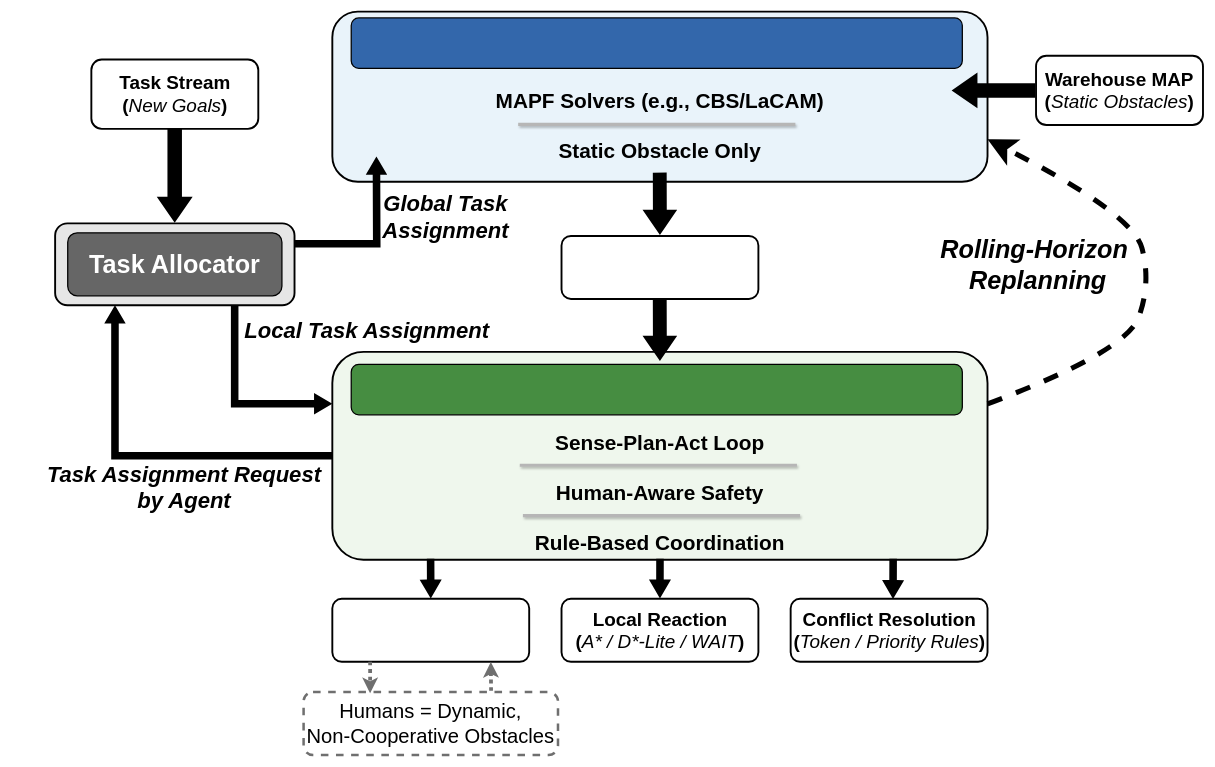
Image size: 1215x767. Some labels were removed from this diagram. The shapes that lost their labels are listed below. From the top down, each one's centre as x and y in pixels, then its label:
the point at 656,43: Tier-1: Global Planning (Rolling Horizon)
the point at 659,267: Timed Paths ( Global Guidance )
the point at 656,389: Tier-2: Decentralized Execution ( Per Agent )
the point at 430,630: Local Sensing ( Humans & Agents )
